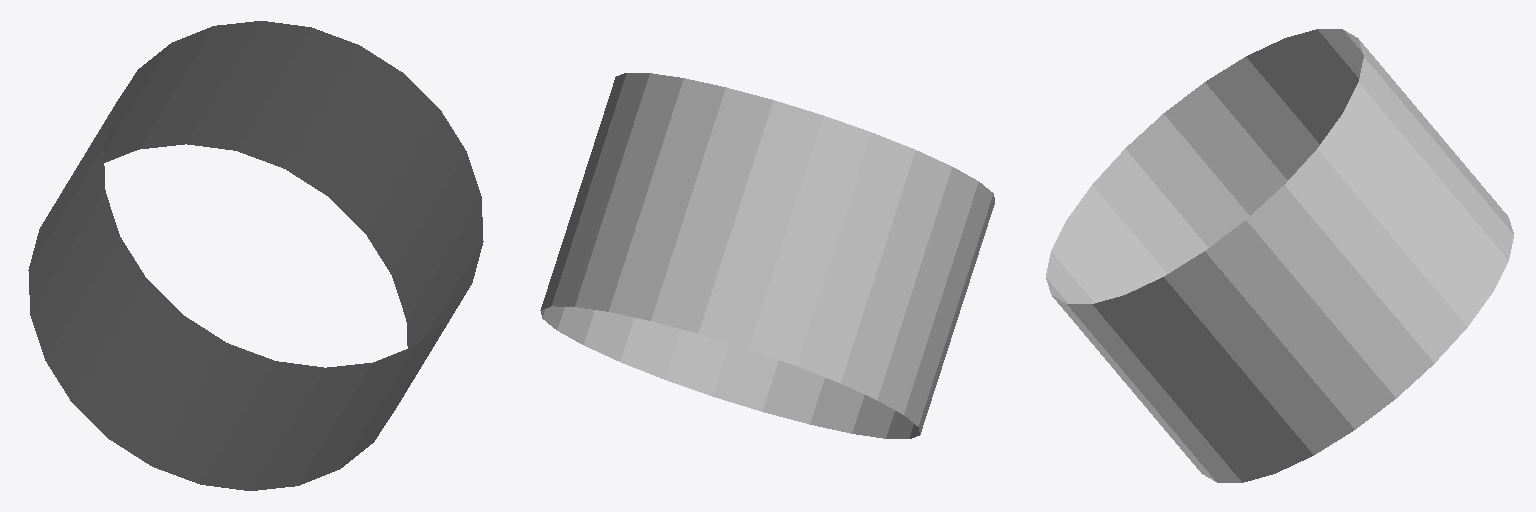
The model's file is original-185.obj.
The picture shows the model from 3 angles: view 1: azimuth 30°, elevation 25°; view 2: azimuth 150°, elevation 25°; view 3: azimuth 270°, elevation 25°; orthographic projection.
Visible parts, largest first — view 1: #ID1137; view 2: #ID1137; view 3: #ID1137.
Boxes of the visible parts, box(x1,y1,x2,y2) form: #ID1137: box(28, 21, 483, 490); #ID1137: box(540, 73, 994, 438); #ID1137: box(1046, 29, 1513, 482).
Size of the model in its own units: 0.006 by 0.0066 by 0.007.